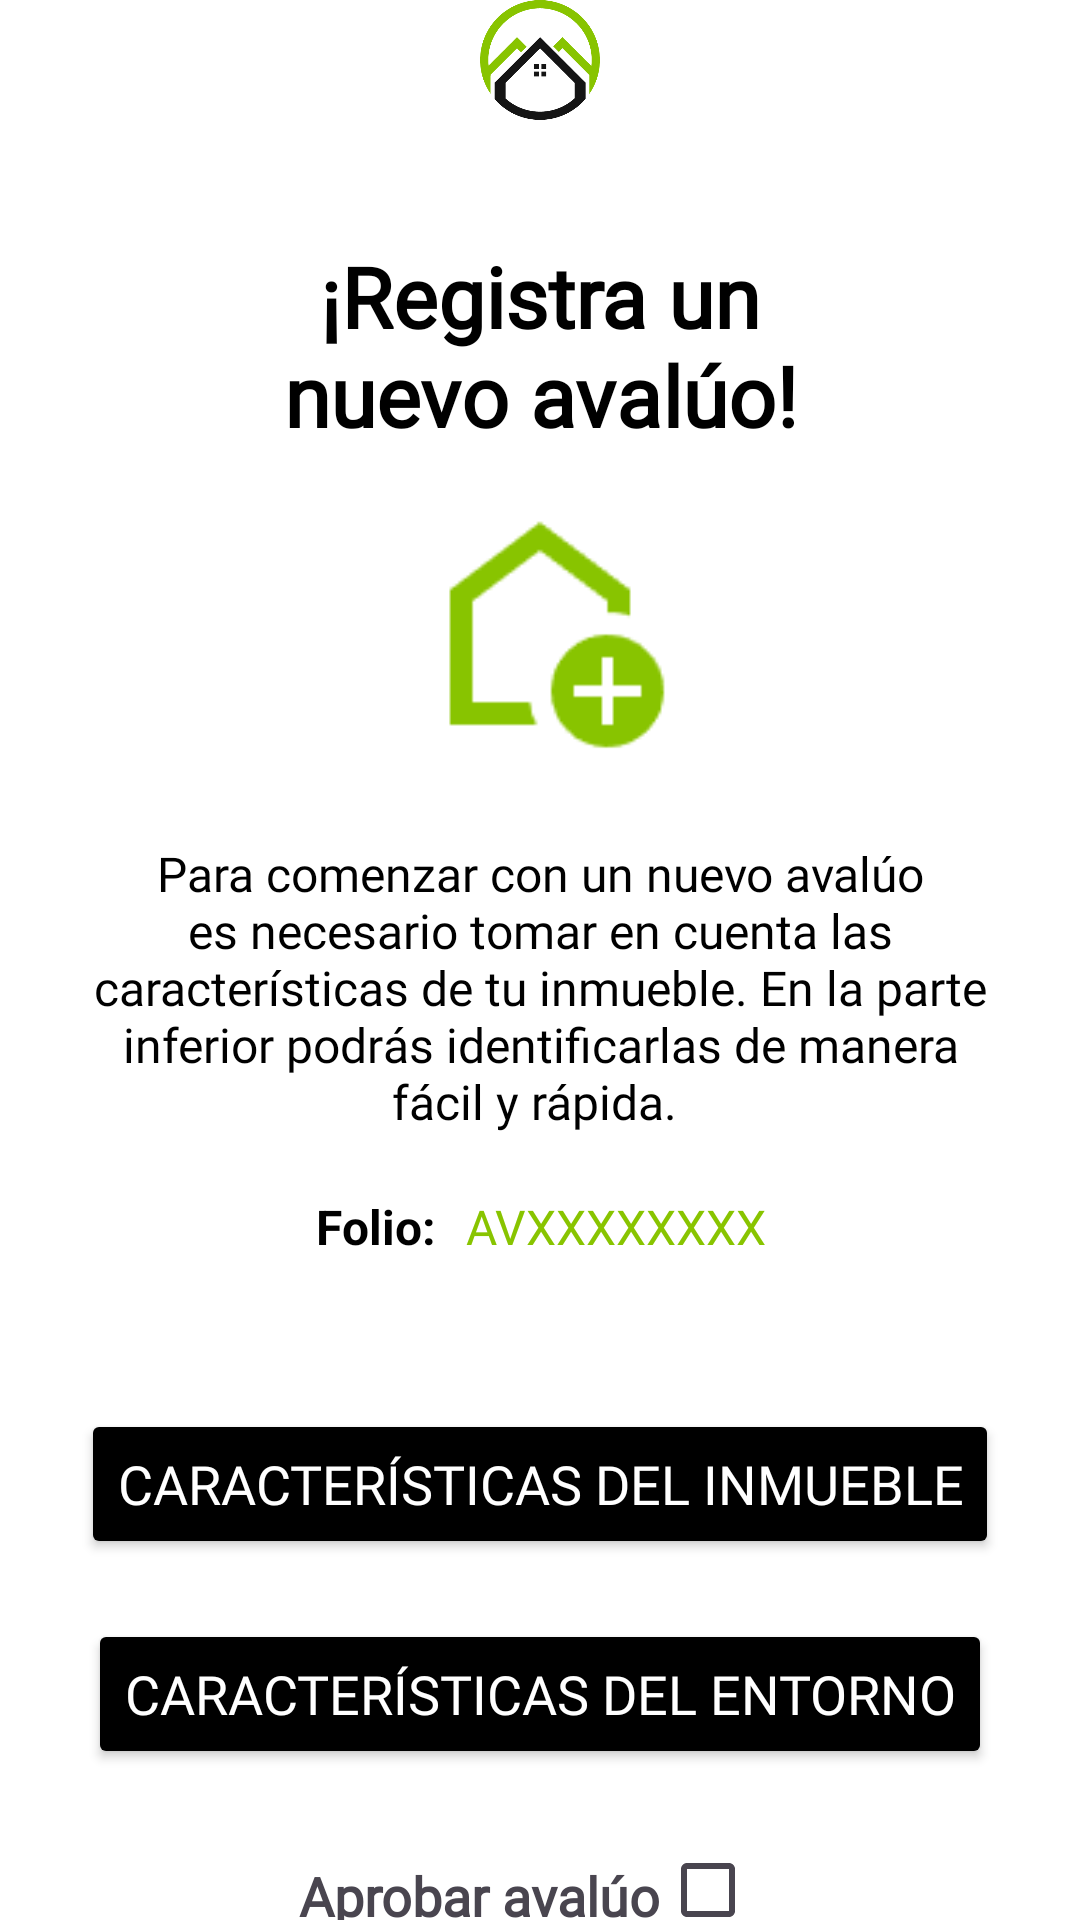

Icon click points for this 1080x1920 phone screenshot, format (x,y):
add avaluos: (557,634)
